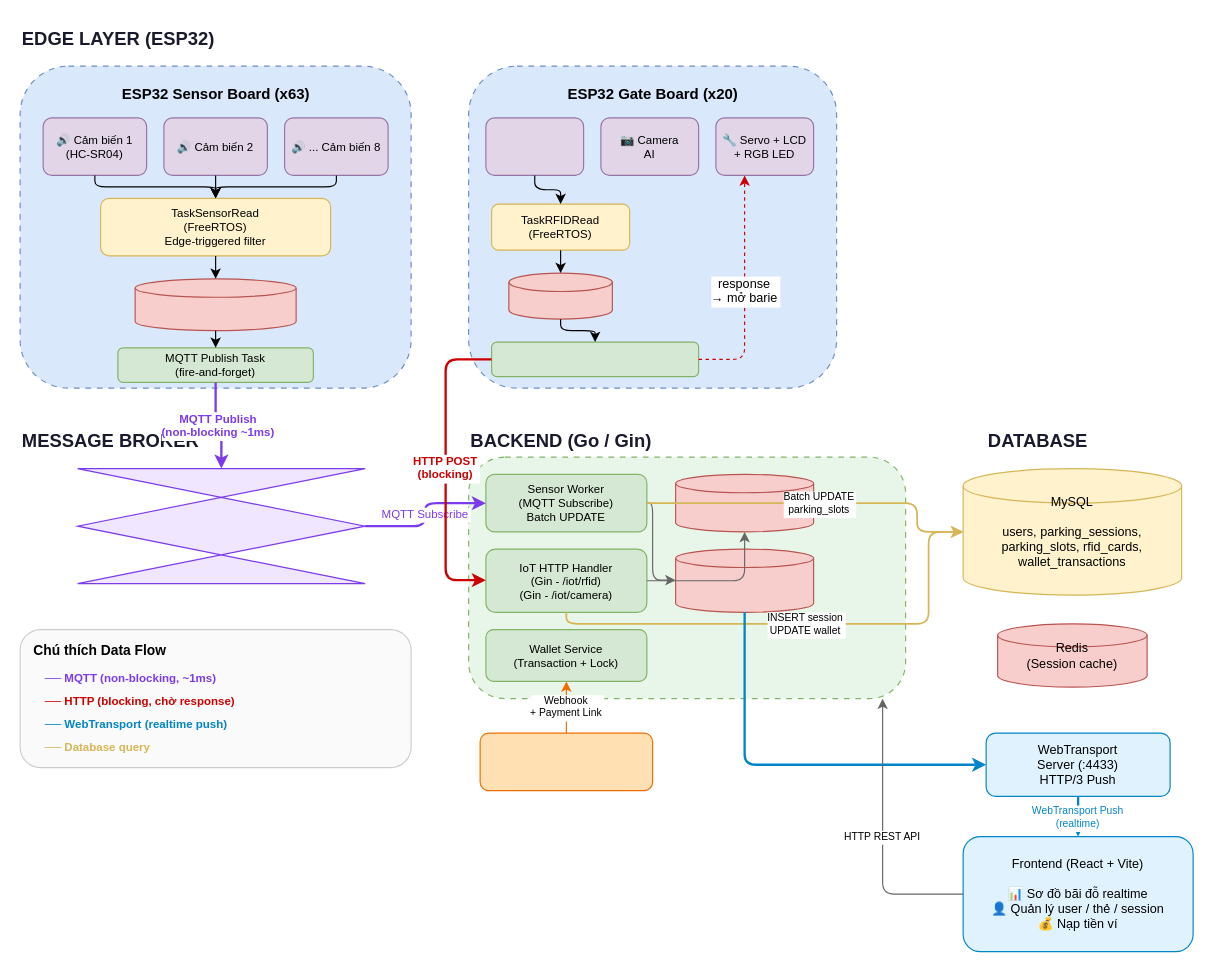
The diagram is 1213 pixels wide and 972 high, and some of its shapes have lost their labels. The box of each missing label's shape, as (x1, y1, x2, y2) in pixels:
HTTP POST Task (blocking - chờ response): (490, 341, 699, 377)
MQTT Broker (Mosquitto / EMQX) Lưu message trong RAM Gom batch trước khi xử lý: (76, 467, 365, 584)
ParkingHub (RAM - sync.RWMutex) Broadcast realtime: (674, 548, 814, 612)
PlateCache (RAM - sync.Mutex) TTL 5 phút: (674, 473, 814, 532)
rfidQueue (RAM): (508, 272, 612, 319)
sensorQueue (FreeRTOS Queue - RAM): (134, 278, 296, 331)
💳 PayOS Payment Gateway: (479, 732, 653, 791)
💳 RFID (RC522): (485, 117, 584, 175)
